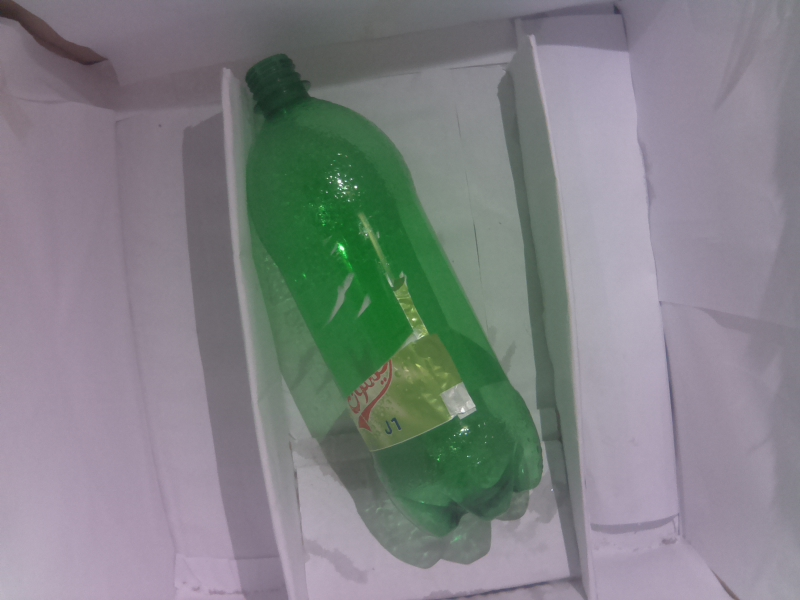botolplastik: (245, 51, 541, 537)
